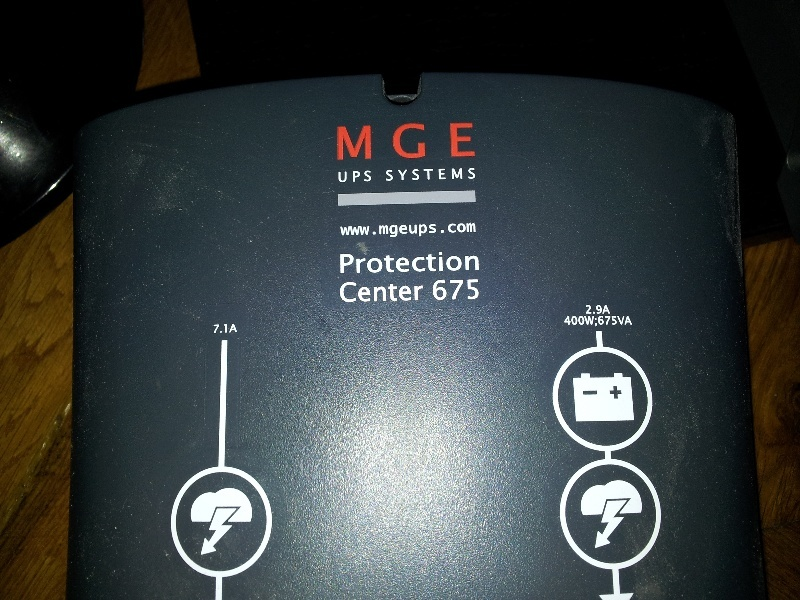text: (337, 122, 352, 161), (353, 122, 368, 161), (369, 122, 384, 161), (385, 122, 400, 161), (401, 122, 416, 161), (417, 122, 432, 161), (433, 122, 448, 161), (449, 122, 464, 161), (465, 122, 476, 161), (353, 251, 368, 274), (369, 251, 384, 274), (385, 251, 400, 274), (401, 251, 416, 274), (417, 251, 432, 274), (433, 251, 448, 274), (449, 251, 464, 274), (465, 251, 480, 274), (433, 278, 448, 301), (449, 278, 464, 301), (465, 278, 480, 301), (353, 282, 368, 303), (369, 282, 384, 303), (385, 282, 400, 303), (401, 282, 416, 303), (340, 251, 352, 274), (340, 282, 352, 303), (353, 223, 368, 239), (369, 223, 384, 239), (385, 223, 400, 239), (401, 223, 416, 239), (417, 223, 432, 239), (433, 223, 448, 239), (449, 223, 464, 239), (401, 168, 416, 182), (417, 168, 432, 182), (433, 168, 448, 182), (449, 168, 464, 182), (386, 168, 400, 182), (353, 170, 368, 183), (340, 223, 352, 239), (338, 170, 352, 183), (465, 223, 476, 239), (577, 316, 592, 327), (593, 316, 608, 327), (609, 316, 624, 327), (465, 168, 476, 182), (593, 305, 608, 315), (417, 282, 424, 303), (225, 324, 238, 335), (564, 316, 576, 327), (213, 324, 224, 335), (625, 316, 634, 327), (586, 305, 592, 315), (369, 170, 372, 183), (609, 305, 611, 315)
